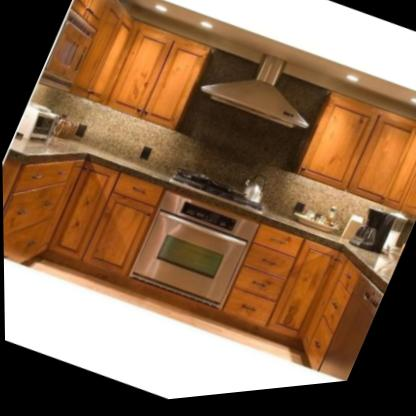Cabinet: (211, 218, 393, 399), (2, 124, 166, 310), (35, 0, 223, 146), (292, 91, 416, 238)
